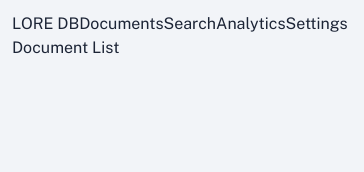
it: Namespace sync from URL › preserves ns param when navigating between tabs
This screenshot has width=364, height=172.
Expected: the text "Document List" is shown, top-left (12, 38), bottom-right (120, 57)
Click the link "Search": (190, 24) top-left (164, 14), bottom-right (216, 33)
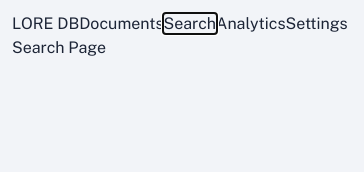
Expected: the text "Search Page" is shown, top-left (12, 38), bottom-right (106, 57)
